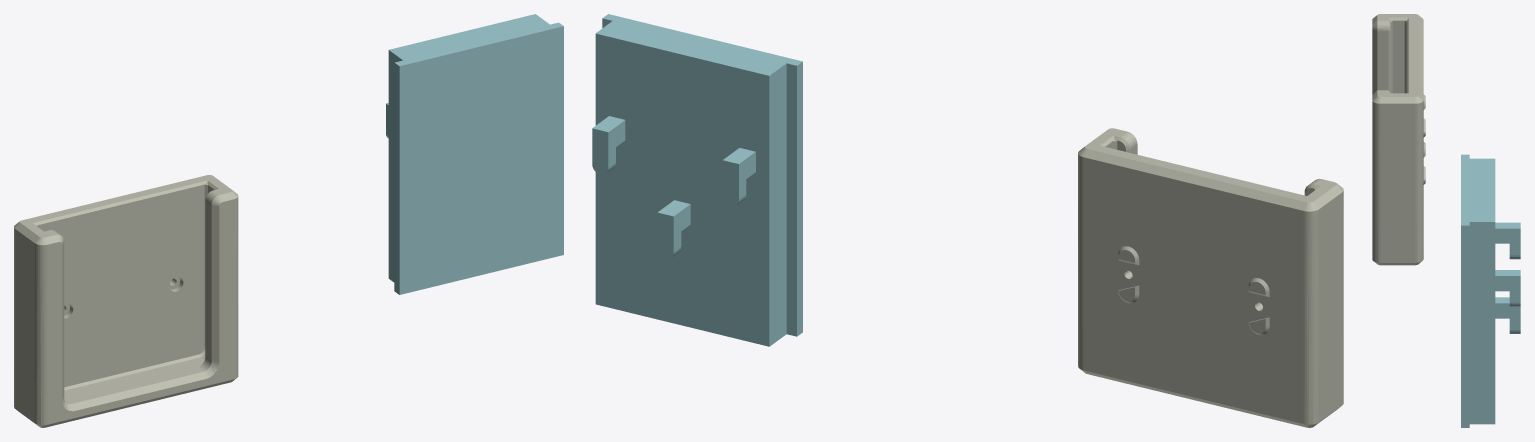
The model's file is Ryobi 40V Battery Skadis Mount.glb.
3 views of the same model, side by side, from view 1: azimuth 30°, elevation 25°; view 2: azimuth 150°, elevation 25°; view 3: azimuth 270°, elevation 25° (orthographic). The views are drawn at different scales.
Parts seen in each view (by area): view 1: Mesh_Mesh_head_geo.001_lambert2SG.001; view 2: Mesh_Mesh_head_geo.001_lambert2SG.001; view 3: Mesh_Mesh_head_geo.001_lambert2SG.001.
Part boxes in pixels (bbox=[...]): Mesh_Mesh_head_geo.001_lambert2SG.001: bbox=[14, 14, 563, 427]; Mesh_Mesh_head_geo.001_lambert2SG.001: bbox=[592, 14, 1343, 427]; Mesh_Mesh_head_geo.001_lambert2SG.001: bbox=[1372, 14, 1520, 427].
Size of the model in its own units: 0.2086 by 0.0794 by 0.0528.
